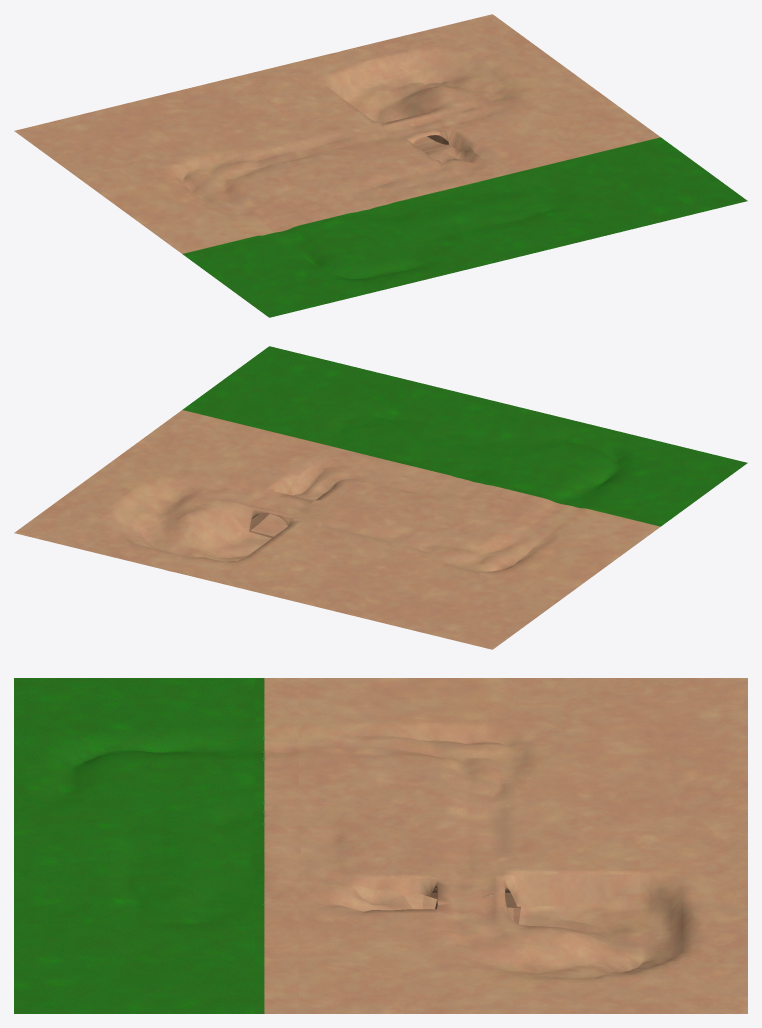
File: Track1 fix.fbx
The picture shows the model from 3 angles, top to bottom: view 1: azimuth 30°, elevation 25°; view 2: azimuth 150°, elevation 25°; view 3: azimuth 270°, elevation 25°; orthographic projection. The views are drawn at different scales.
Visible parts, largest first — view 1: Plane; view 2: Plane; view 3: Plane.
Boxes of the visible parts, x1,y1,x2,y2 form: Plane: (14, 14, 747, 317); Plane: (14, 346, 747, 649); Plane: (14, 678, 747, 1013).
Size of the model in its own units: 32794 by 1506 by 30305.
